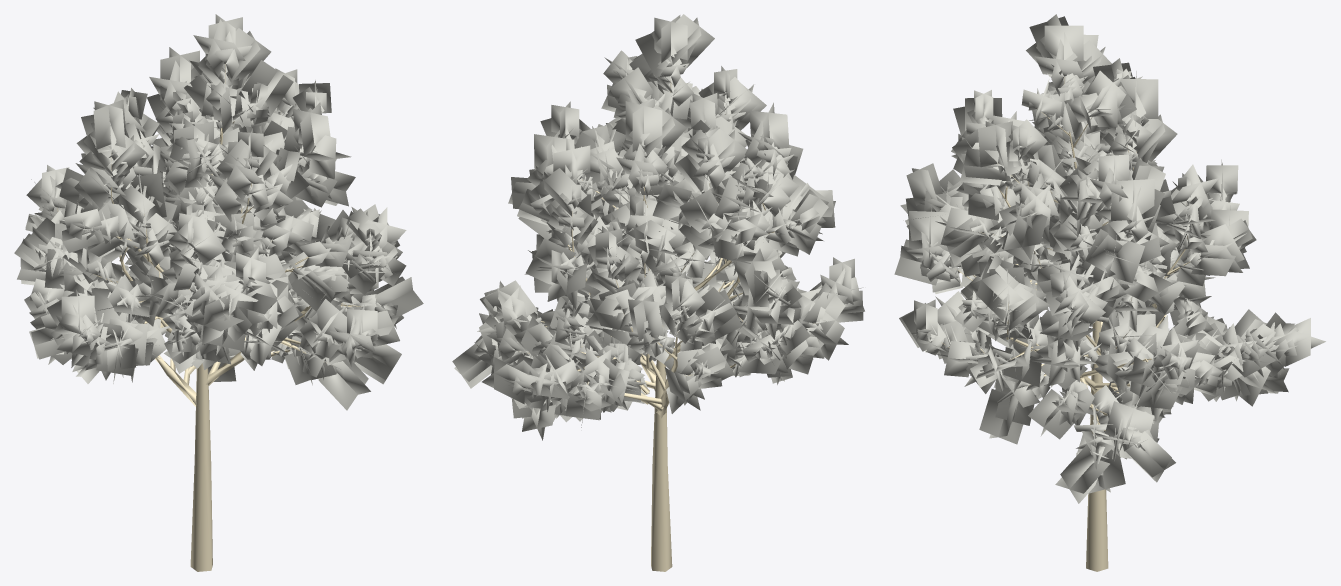
The model's file is oak_medium_v0_lod1.glb.
3 views of the same model, side by side, from view 1: azimuth 30°, elevation 25°; view 2: azimuth 150°, elevation 25°; view 3: azimuth 270°, elevation 25° (orthographic). The views are drawn at different scales.
Visible parts, largest first — view 1: Leaves, Branches; view 2: Leaves, Branches; view 3: Leaves, Branches.
Boxes of the visible parts, x1=… form: Leaves: x1=14, y1=14, x2=423, y2=410; Branches: x1=57, y1=64, x2=361, y2=571; Leaves: x1=452, y1=14, x2=864, y2=440; Branches: x1=519, y1=80, x2=816, y2=571; Leaves: x1=894, y1=14, x2=1325, y2=503; Branches: x1=941, y1=77, x2=1222, y2=571.
Size of the model in its own units: 50.33 by 72.9 by 51.76.
